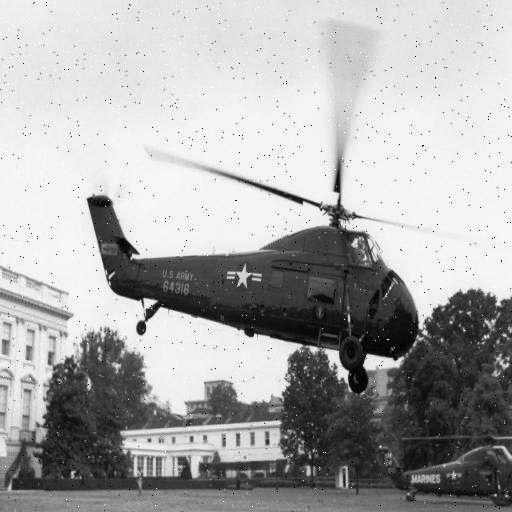helicopter: (90, 22, 415, 397)
